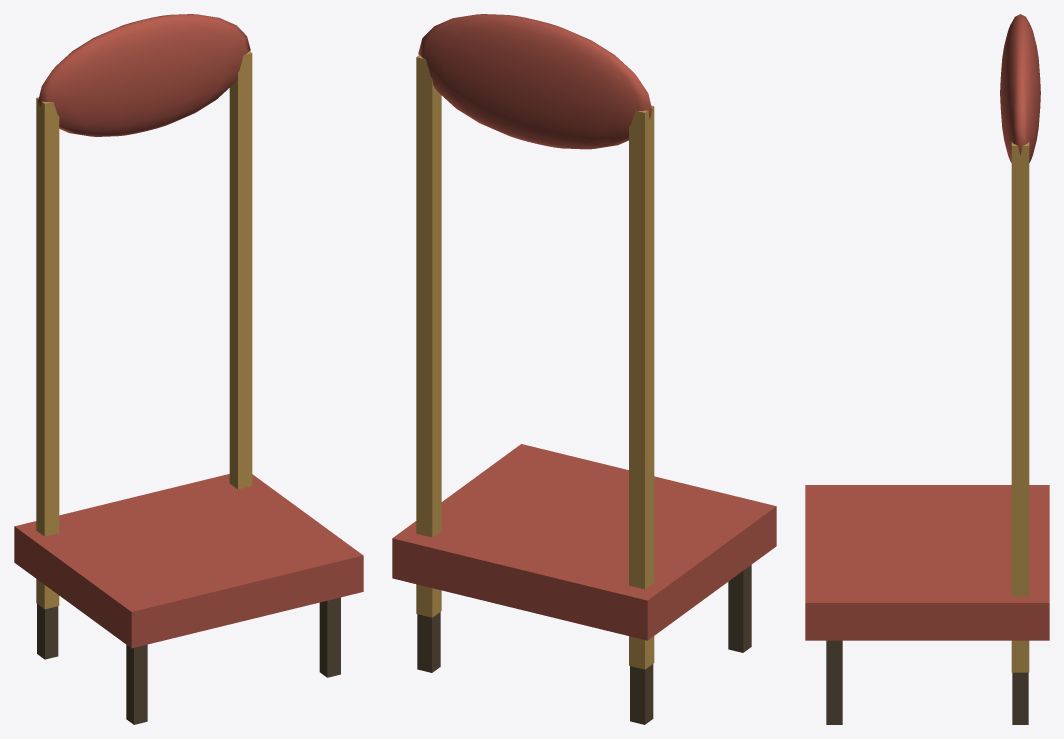
3 views of the same model, side by side, from view 1: azimuth 30°, elevation 25°; view 2: azimuth 150°, elevation 25°; view 3: azimuth 270°, elevation 25° (orthographic). The views are drawn at different scales.
Size of the model in its own units: 1.2 by 3.03 by 1.05.
